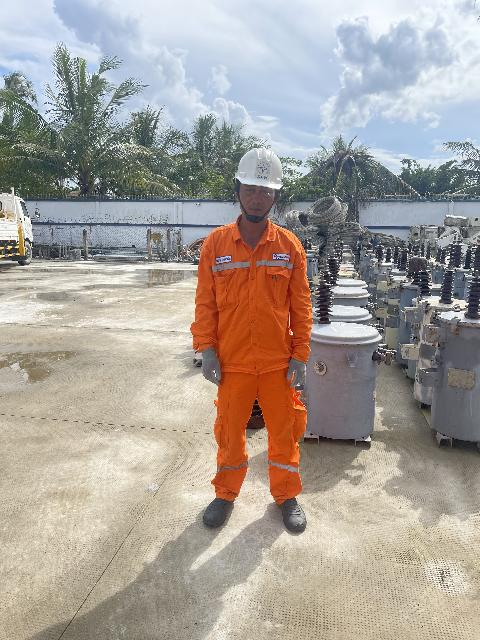gloves: (187, 340, 229, 395), (277, 348, 314, 389)
helmet: (229, 144, 293, 202)
shoes: (263, 485, 317, 535), (198, 484, 243, 534)
